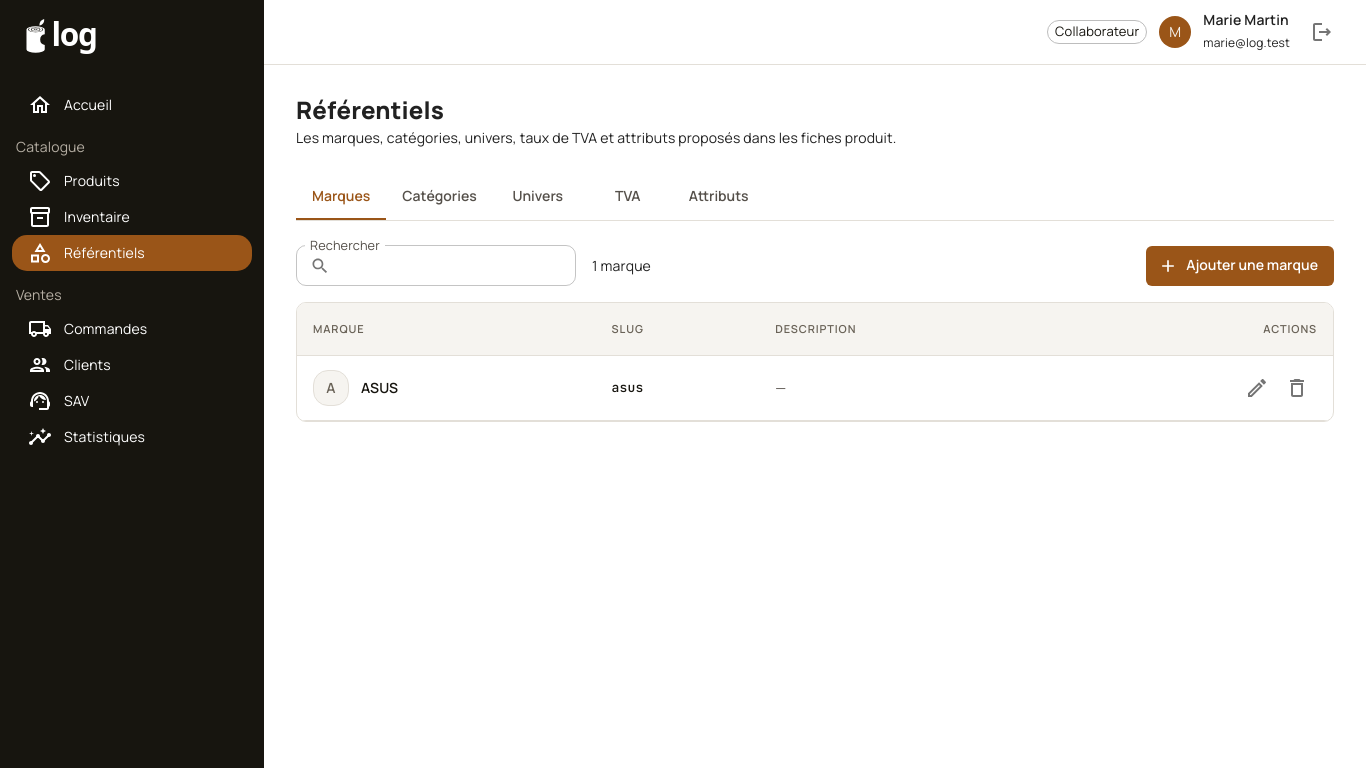
Test: the reference lists (C19) › explains in French why a brand still in use cannot be deleted
The width and height of the screenshot is (1366, 768).
Click the button named "Supprimer ASUS" at (1297, 388), box [1277, 368, 1317, 408]
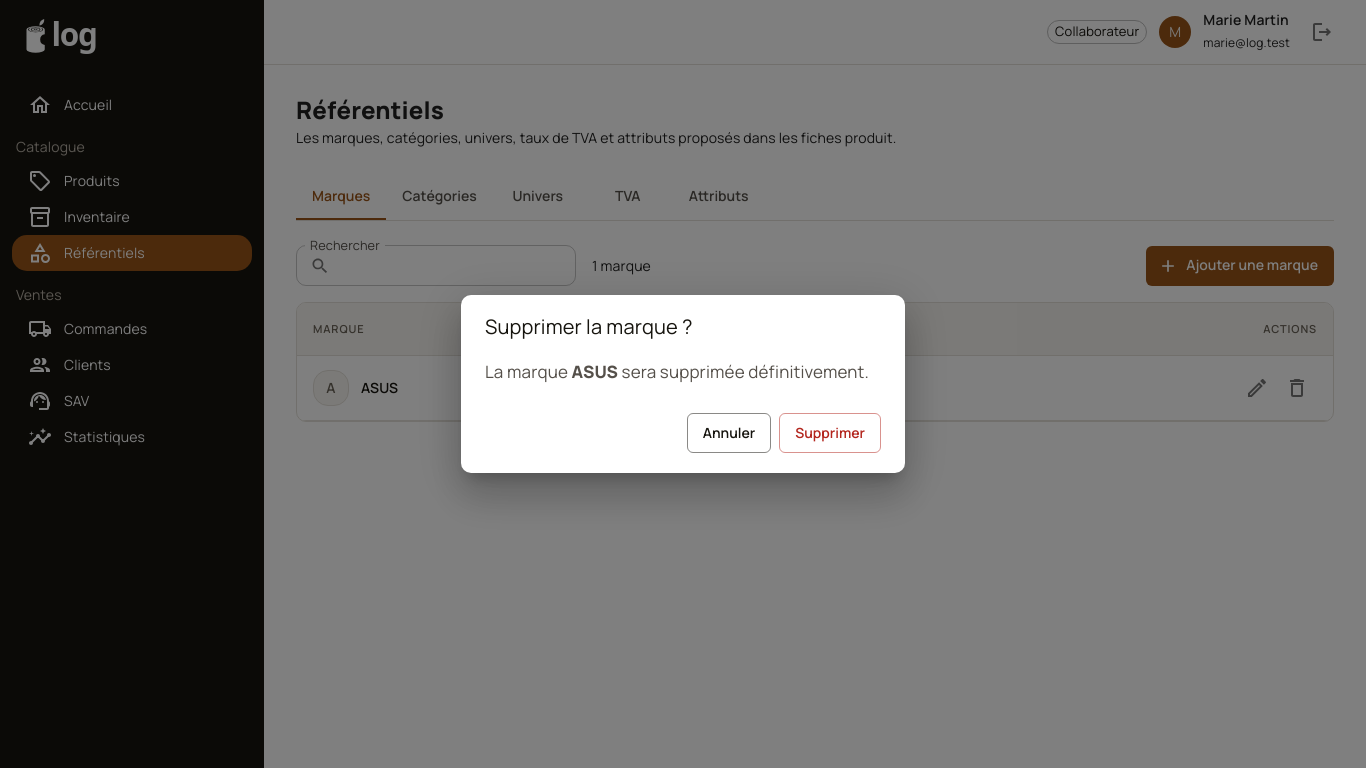
Click the button "Supprimer" at (830, 433), box [779, 413, 881, 453]
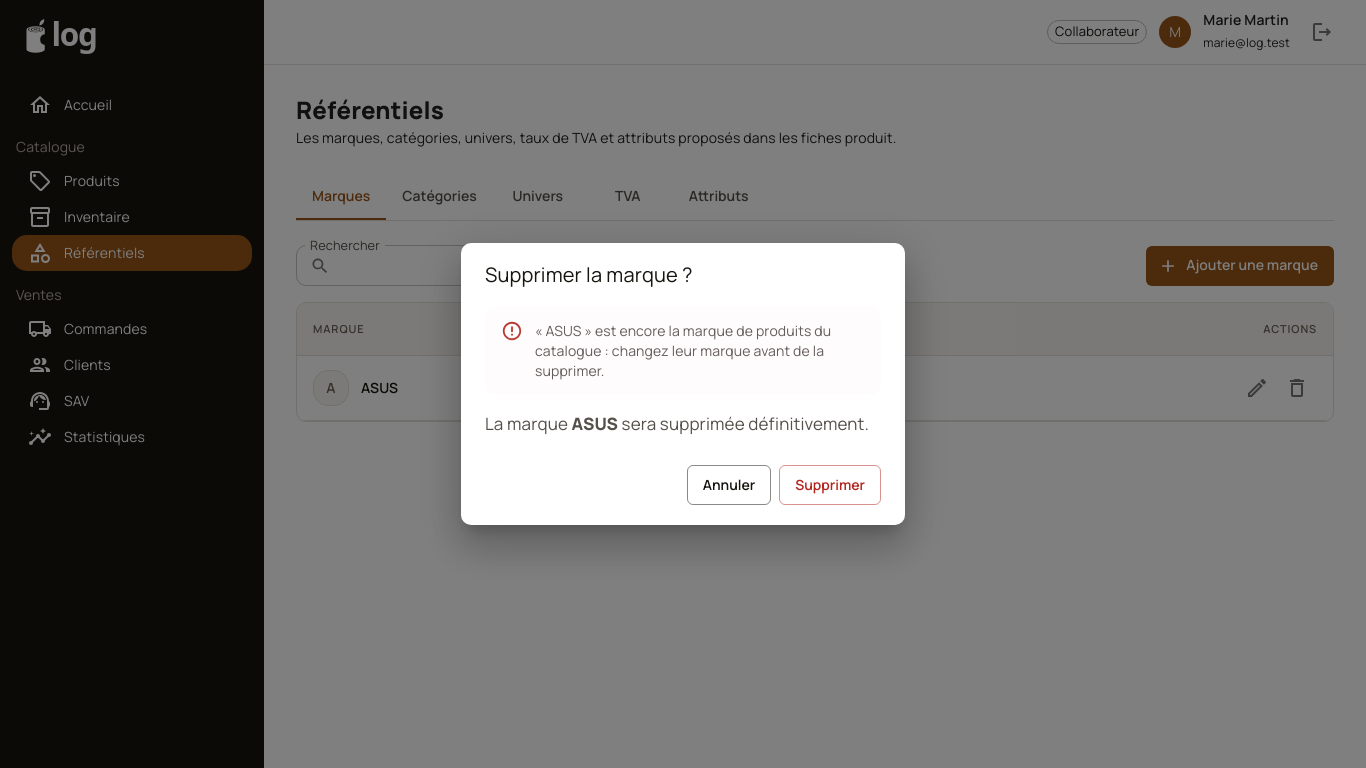
Check: the message shows "« ASUS » est encore la marque de produits du catalogue", box [535, 321, 831, 380]
